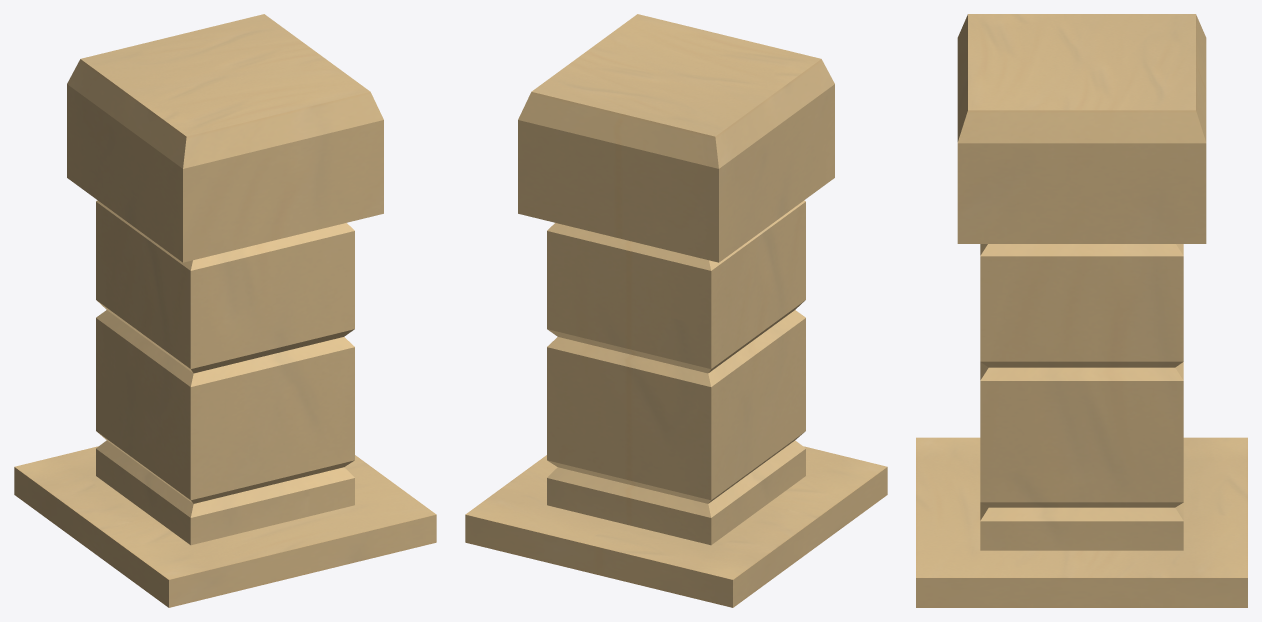
Rendered from Column3A.FBX.
The picture shows the model from 3 angles, left to right: view 1: azimuth 30°, elevation 25°; view 2: azimuth 150°, elevation 25°; view 3: azimuth 270°, elevation 25°; orthographic projection. The views are drawn at different scales.
Visible parts, largest first — view 1: Column3A; view 2: Column3A; view 3: Column3A.
Boxes of the visible parts, x1,y1,x2,y2 form: Column3A: [14, 14, 436, 607]; Column3A: [465, 14, 887, 607]; Column3A: [916, 14, 1247, 607].
Size of the model in its own units: 10 by 10 by 15.82.
1 material, 1 textured.
